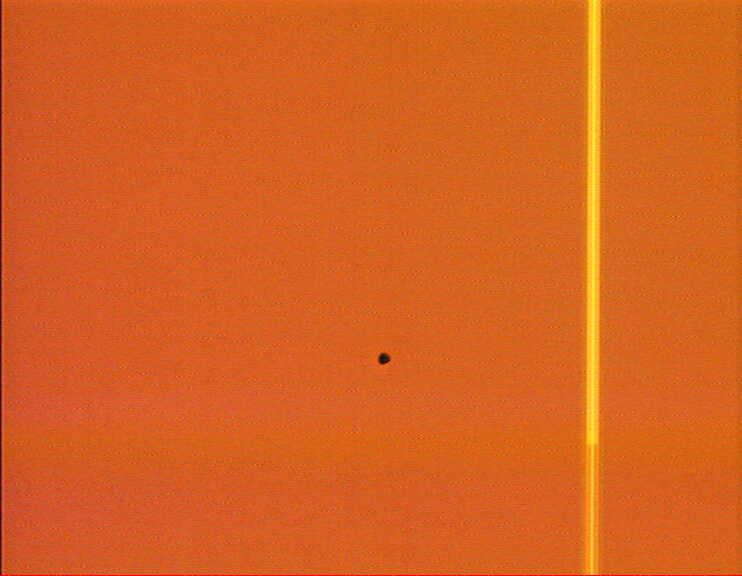PIQ PARTICLE: (374, 348, 397, 370)
